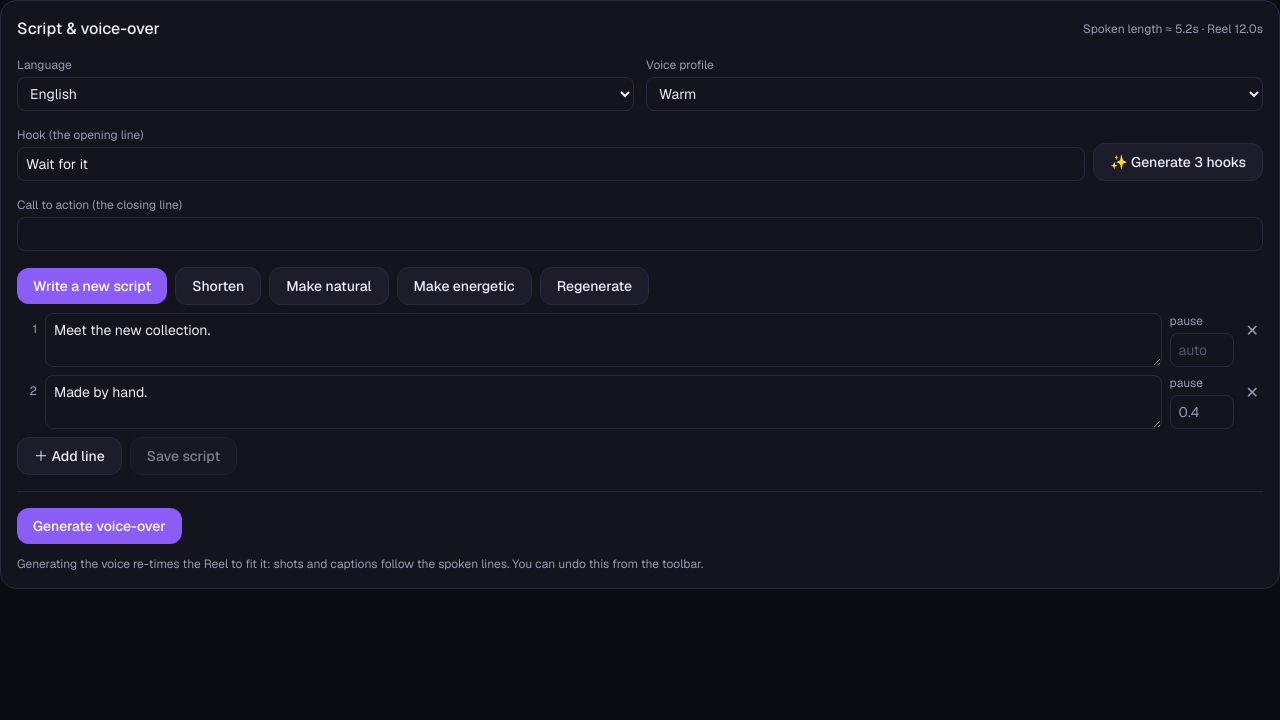
ScriptVoicePanel › lets the user pick one of three generated hooks
Click the button "✨ Generate 3 hooks" at (1178, 162), box [1093,143,1263,181]
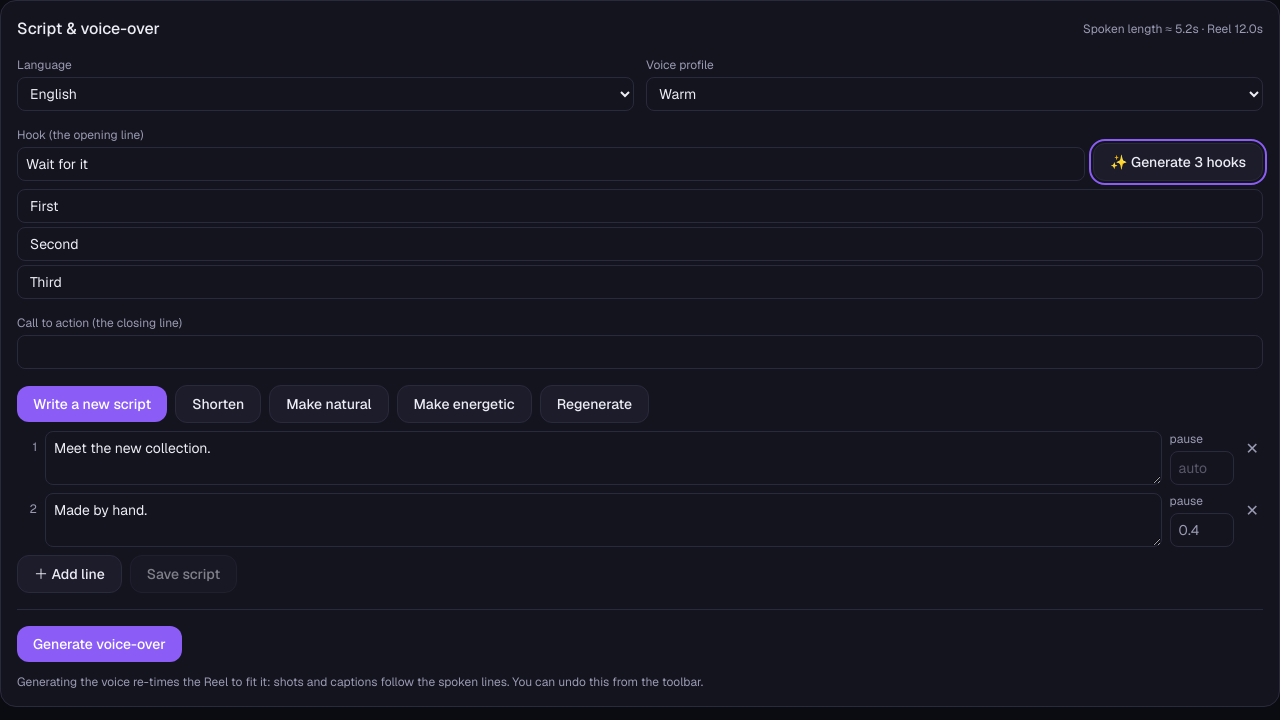
Click the button "Second" at (54, 244), box [17,227,1263,261]
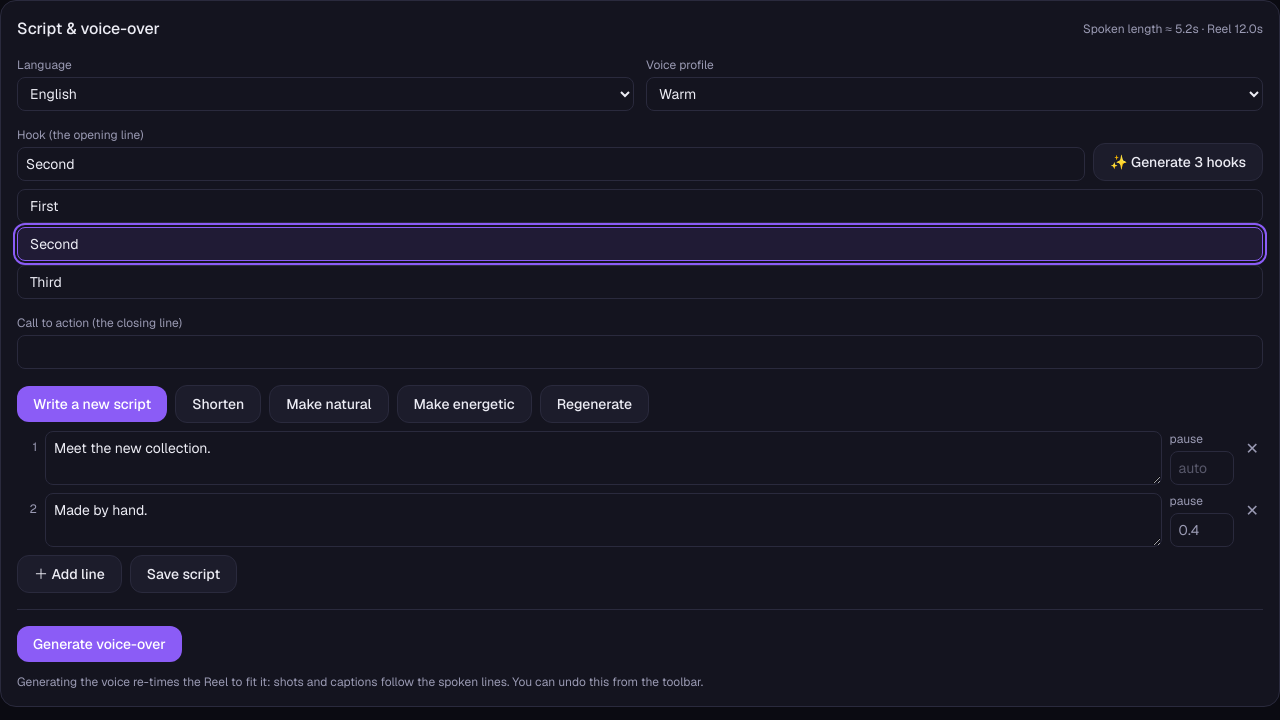
expect the field labelled "Hook" holds "Second": met, box [17,147,1085,181]
